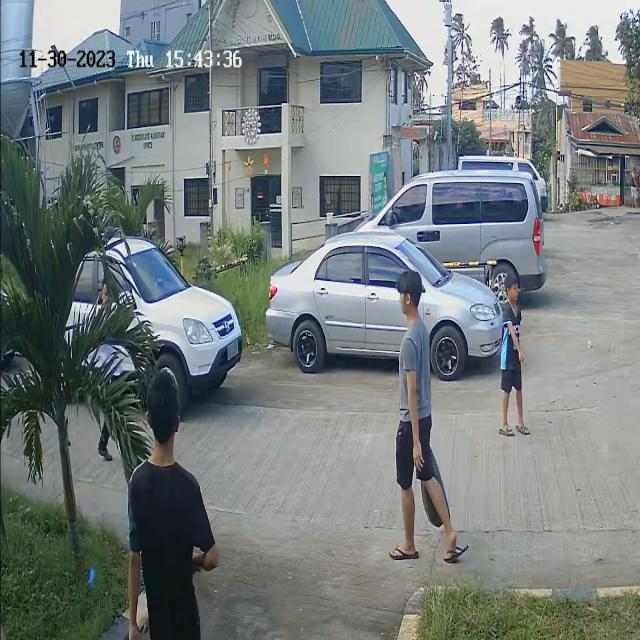person: (139, 369, 186, 497), (399, 270, 428, 400), (496, 269, 524, 360)
